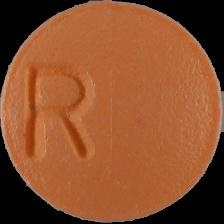27241-002: (0, 0, 224, 224)
